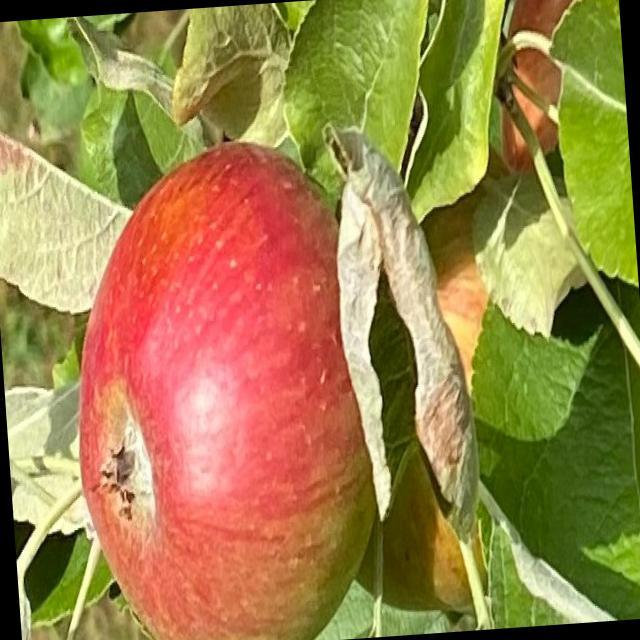100-_ripeness: (59, 138, 388, 639), (368, 183, 528, 614), (490, 0, 619, 171)
